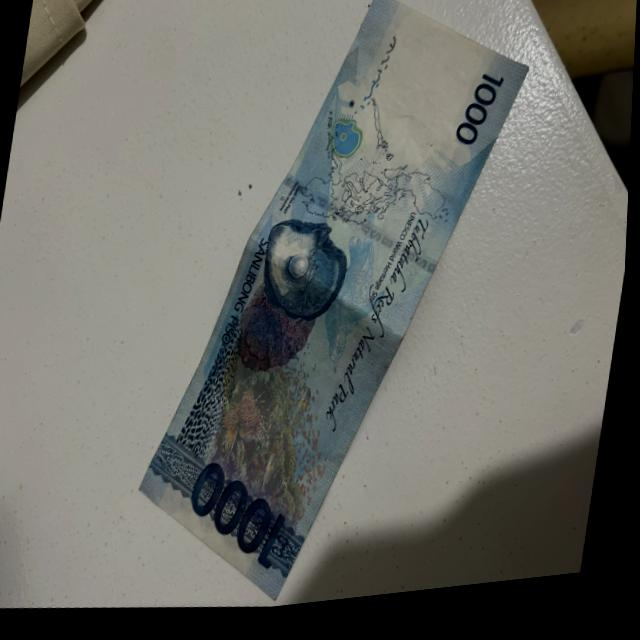1000_pearl: (255, 222, 350, 331)
1000_pearl_watermark: (330, 121, 366, 165)
